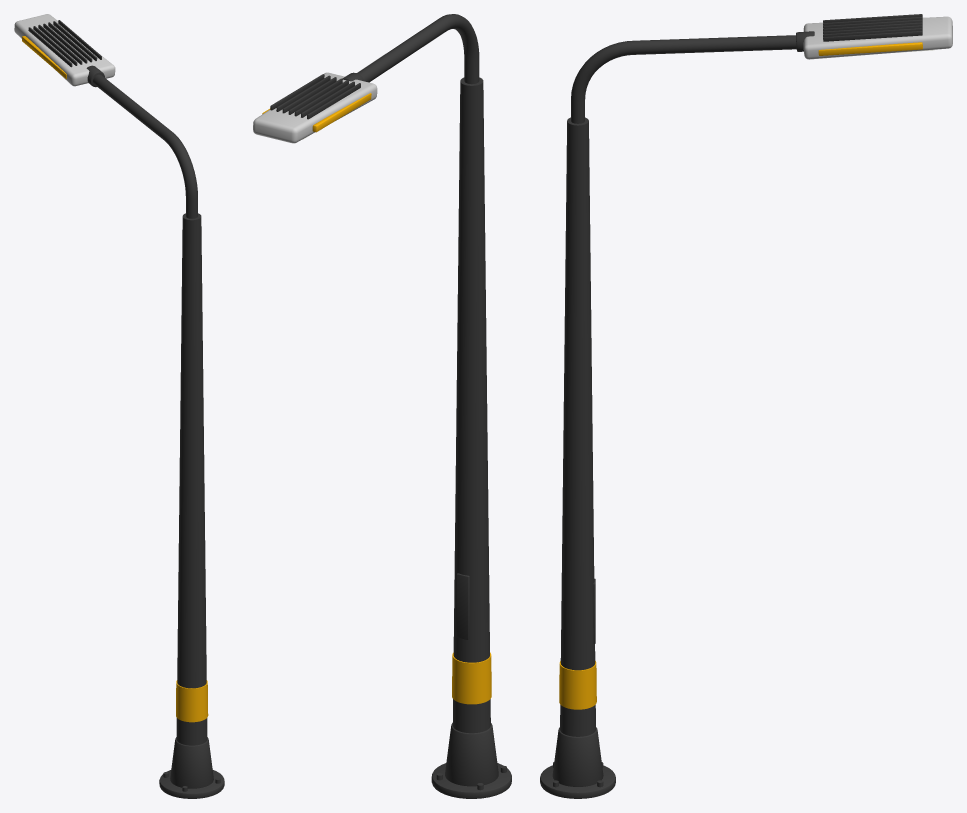
The model's file is lamp.obj.
3 views of the same model, side by side, from view 1: azimuth 30°, elevation 25°; view 2: azimuth 150°, elevation 25°; view 3: azimuth 270°, elevation 25° (orthographic). The views are drawn at different scales.
Parts seen in each view (by area): view 1: lamp; view 2: lamp; view 3: lamp.
Boxes of the visible parts, box(x1,y1,x2,y2) form: lamp: box(14, 14, 224, 798); lamp: box(253, 14, 511, 798); lamp: box(540, 14, 952, 798).
Bounding box in the file's own units: 0.8 × 8.84 × 4.35.
